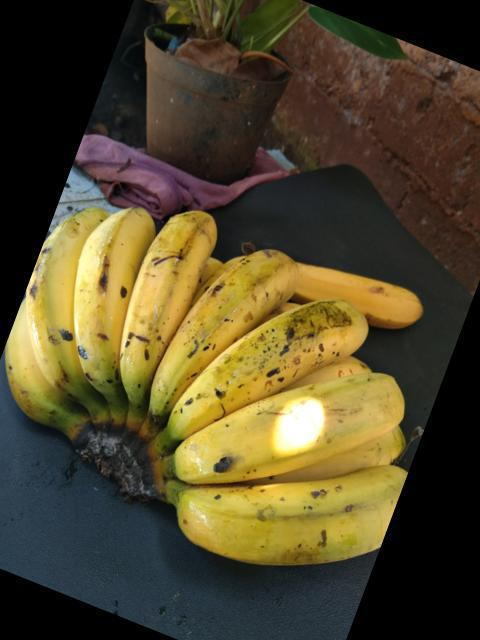freshripe: (300, 239, 427, 331)
ripe: (166, 296, 365, 451), (170, 474, 429, 584), (177, 373, 410, 495), (160, 234, 287, 419), (122, 194, 214, 413), (66, 203, 152, 423)
